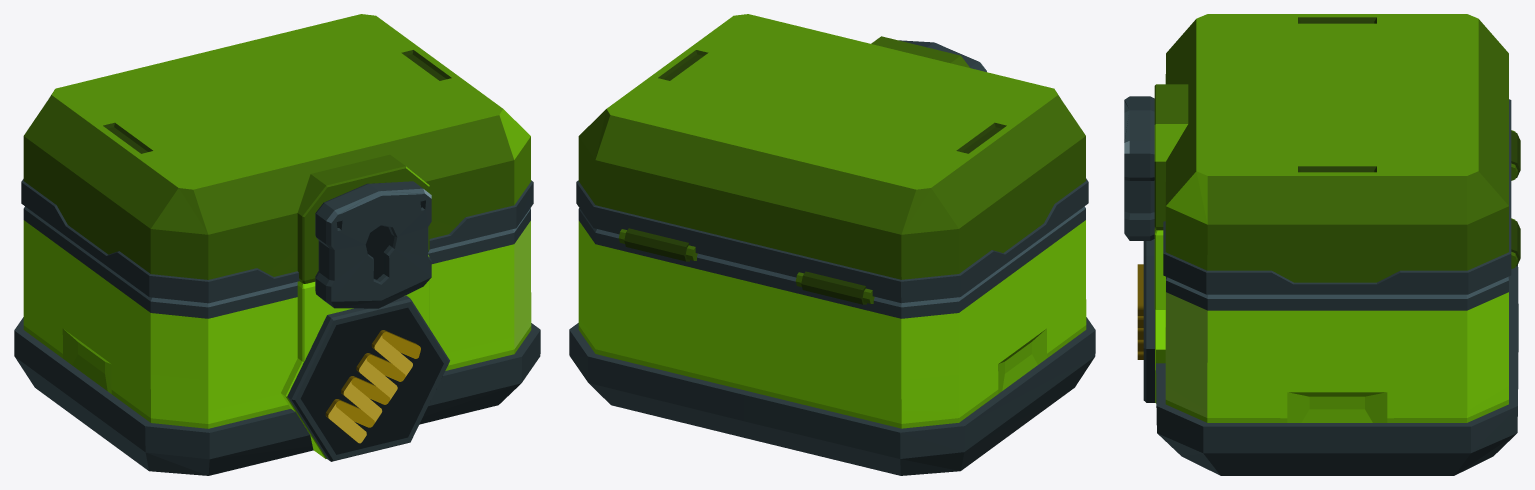
Rendered from BOX_MATERAL_G2_02.fbx.
3 views of the same model, side by side, from view 1: azimuth 30°, elevation 25°; view 2: azimuth 150°, elevation 25°; view 3: azimuth 270°, elevation 25° (orthographic). The views are drawn at different scales.
Parts seen in each view (by area): view 1: Object003, BOX_MATERAL_G2_02, Object004; view 2: Object003, BOX_MATERAL_G2_02; view 3: Object003, BOX_MATERAL_G2_02, Object004.
Part boxes in pixels (box(x1,y1,x2,y2)): Object003: box(21, 14, 533, 303); BOX_MATERAL_G2_02: box(14, 206, 540, 475); Object004: box(315, 181, 431, 308); Object003: box(576, 14, 1088, 304); BOX_MATERAL_G2_02: box(569, 206, 1095, 475); Object003: box(1154, 14, 1520, 294); BOX_MATERAL_G2_02: box(1137, 228, 1518, 475); Object004: box(1124, 96, 1154, 240).
Bounding box in the file's own units: 187 × 128 × 158.
